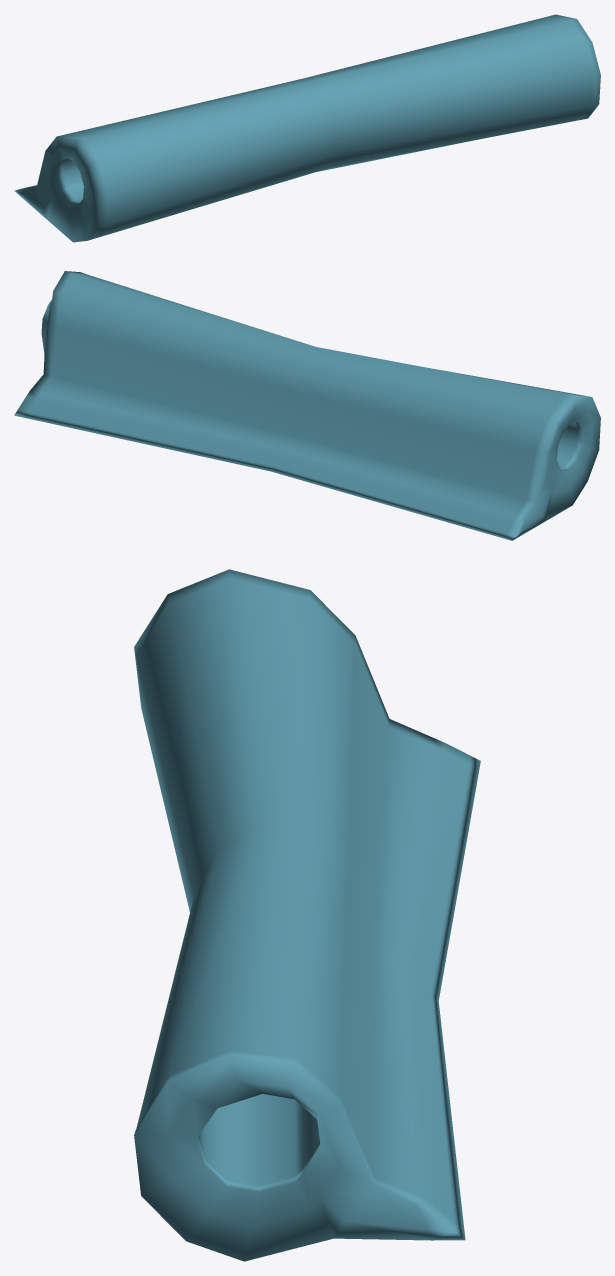
File: Mod_RouleauTissus_LO_V1_JT.fbx
3 views of the same model, one above another, from view 1: azimuth 30°, elevation 25°; view 2: azimuth 150°, elevation 25°; view 3: azimuth 270°, elevation 25° (orthographic). The views are drawn at different scales.
Visible parts, largest first — view 1: Rouleau_tissus_LO_V1; view 2: Rouleau_tissus_LO_V1; view 3: Rouleau_tissus_LO_V1.
Boxes of the visible parts, x1,y1,x2,y2 form: Rouleau_tissus_LO_V1: (14, 14, 600, 242); Rouleau_tissus_LO_V1: (14, 271, 600, 540); Rouleau_tissus_LO_V1: (134, 569, 480, 1261).
Bounding box in the file's own units: 159 × 31.67 × 47.75.
